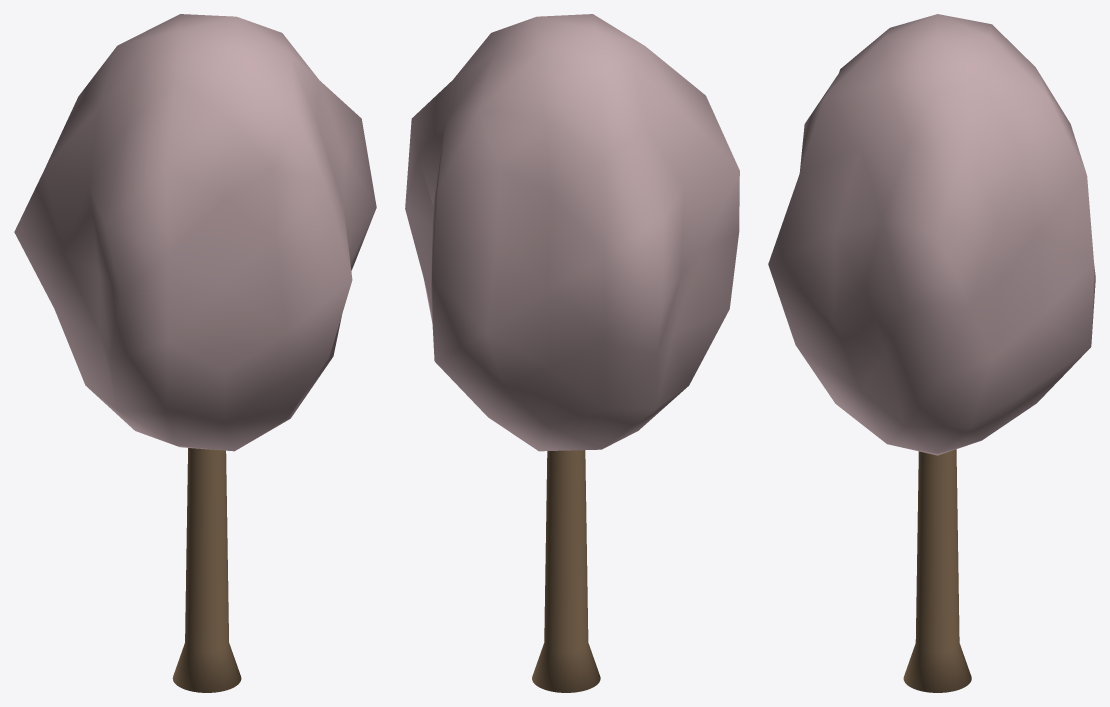
File: blossomtree.glb
3 views of the same model, side by side, from view 1: azimuth 30°, elevation 25°; view 2: azimuth 150°, elevation 25°; view 3: azimuth 270°, elevation 25° (orthographic).
Parts seen in each view (by area): view 1: blossom-tree-continuous-crown, blossom-tree-rooted-trunk; view 2: blossom-tree-continuous-crown, blossom-tree-rooted-trunk; view 3: blossom-tree-continuous-crown, blossom-tree-rooted-trunk.
Boxes of the visible parts, box(x1,y1,x2,y2) form: blossom-tree-continuous-crown: box(14, 14, 376, 451); blossom-tree-rooted-trunk: box(172, 448, 241, 692); blossom-tree-continuous-crown: box(405, 14, 739, 451); blossom-tree-rooted-trunk: box(532, 450, 600, 692); blossom-tree-continuous-crown: box(768, 14, 1095, 455); blossom-tree-rooted-trunk: box(903, 449, 971, 692).
Bounding box in the file's own units: 1.41 × 2.95 × 1.35.
